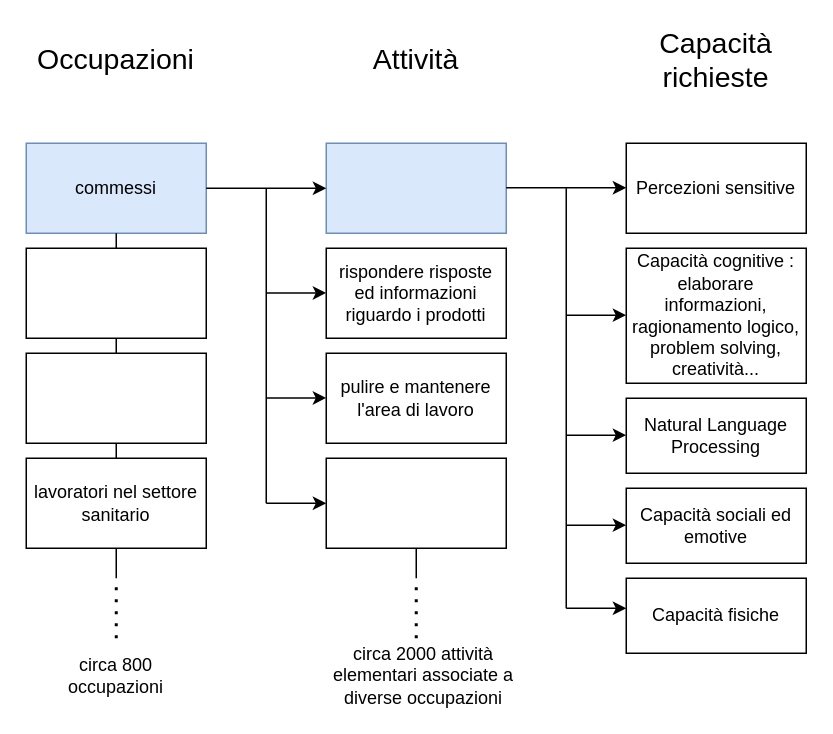
Some shapes in this 833 by 734 pixel diagram are drawn without their labels. Here are the shapes that lost their labels. From the top down, the centre of each, then its label:
the point at 415,187: accogliere i clienti
the point at 115,292: lavoratori nell'industria del food
the point at 115,397: insegnanti
the point at 415,502: eseguire le transazioni in cassa
